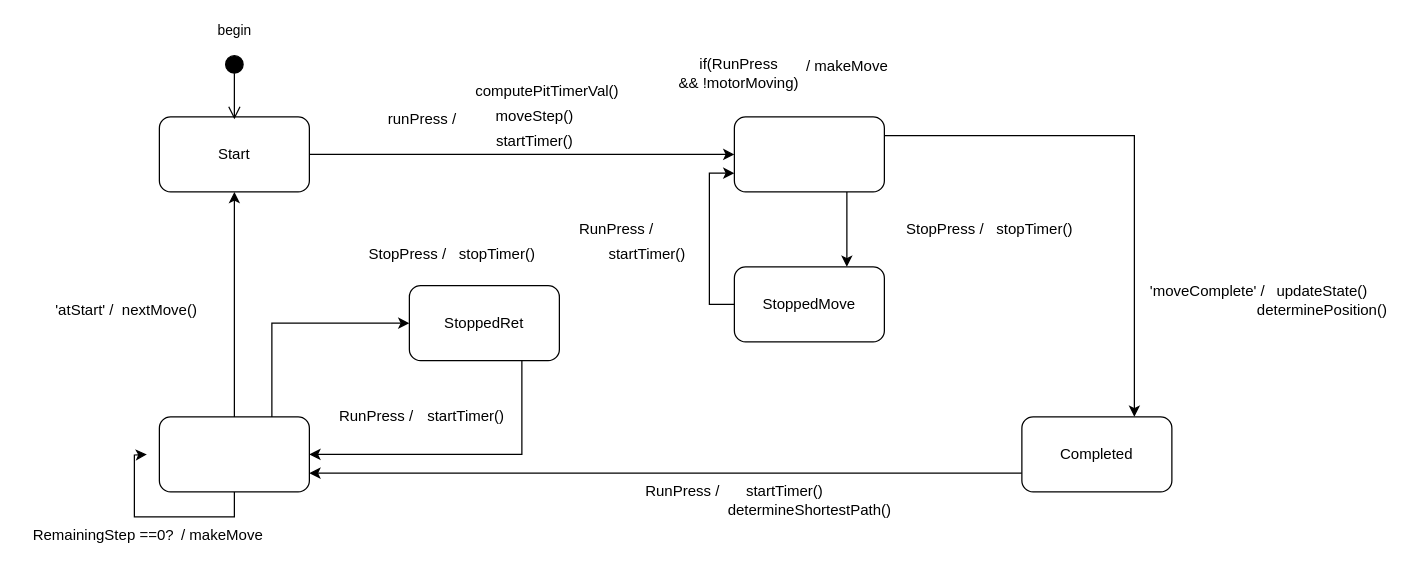
Some shapes in this 1418 by 569 pixel diagram are drawn without their labels. The shapes that lost their labels are listed below. From the top down, each one's centre as x and y in pixels, then its label:
At pixel 808 154: "MakingMove".
At pixel 233 454: "Returning".
